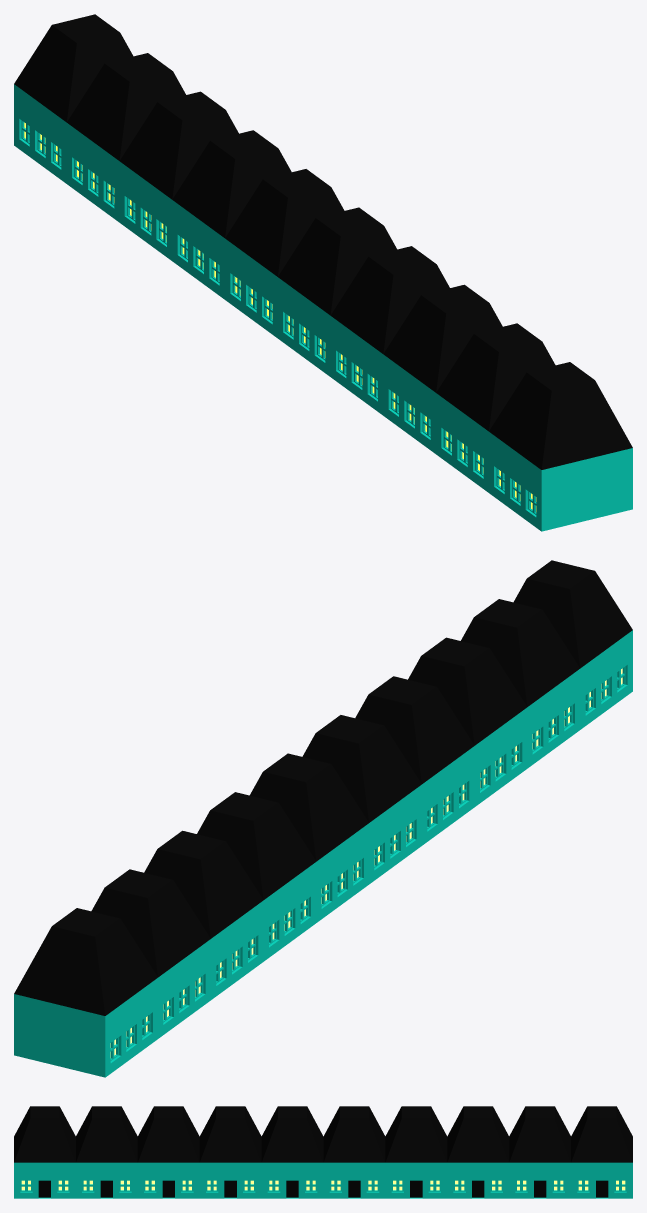
Rendered from bungalows_4.fbx.
3 renders of one model, top to bottom at view 1: azimuth 30°, elevation 25°; view 2: azimuth 150°, elevation 25°; view 3: azimuth 270°, elevation 25°, orthographic. The views are drawn at different scales.
Parts seen in each view (by area): view 1: Cube; view 2: Cube; view 3: Cube.
Boxes of the visible parts, bbox=[...] form: Cube: bbox=[14, 14, 632, 531]; Cube: bbox=[14, 560, 632, 1077]; Cube: bbox=[14, 1106, 632, 1198].
Size of the model in its own units: 28 by 36.56 by 280.
